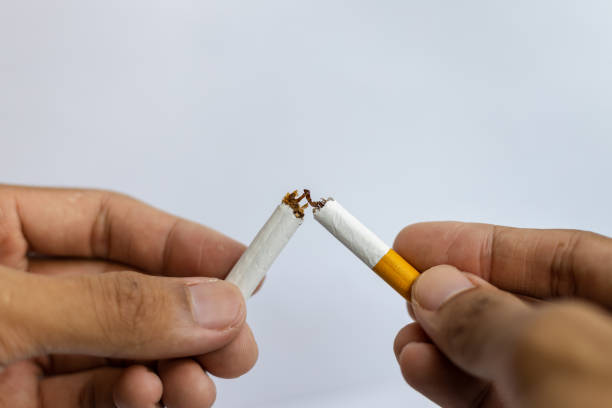cigarette: (301, 188, 422, 302), (226, 191, 304, 309)
